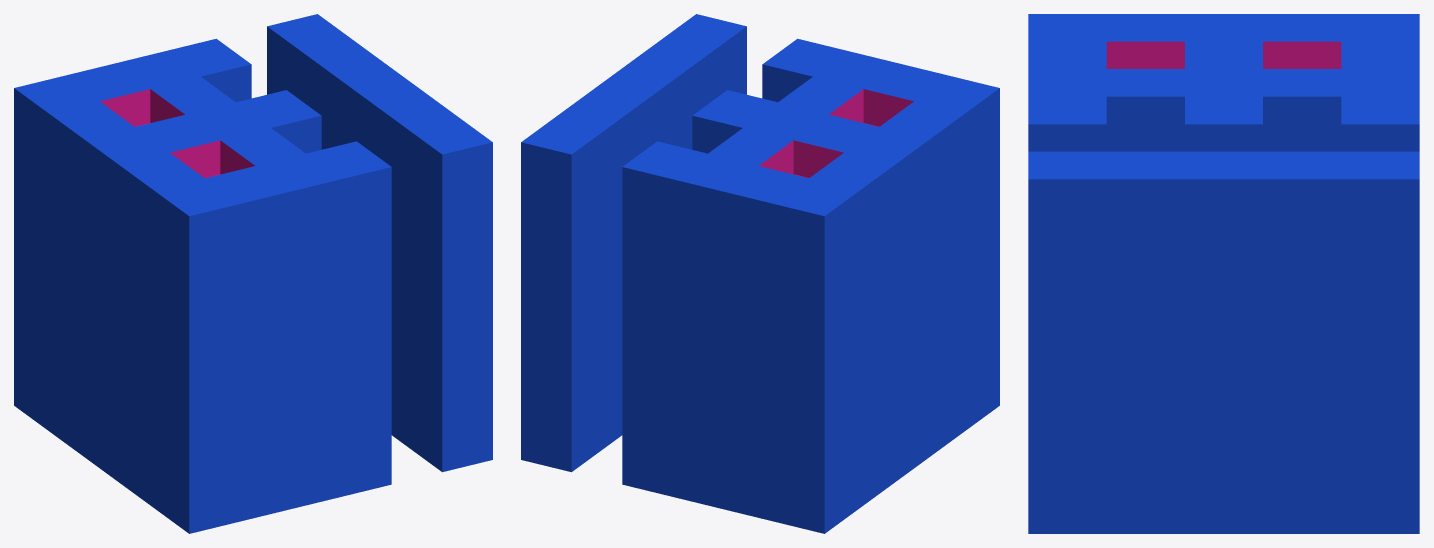
3 renders of one model, left to right at view 1: azimuth 30°, elevation 25°; view 2: azimuth 150°, elevation 25°; view 3: azimuth 270°, elevation 25°, orthographic. The views are drawn at different scales.
Parts seen in each view (by area): view 1: Cube; view 2: Cube; view 3: Cube.
Boxes of the visible parts, x1,y1,x2,y2 form: Cube: (14,14,492,533); Cube: (521,14,999,533); Cube: (1028,14,1419,533).
Size of the model in its own units: 200 by 200 by 200.
